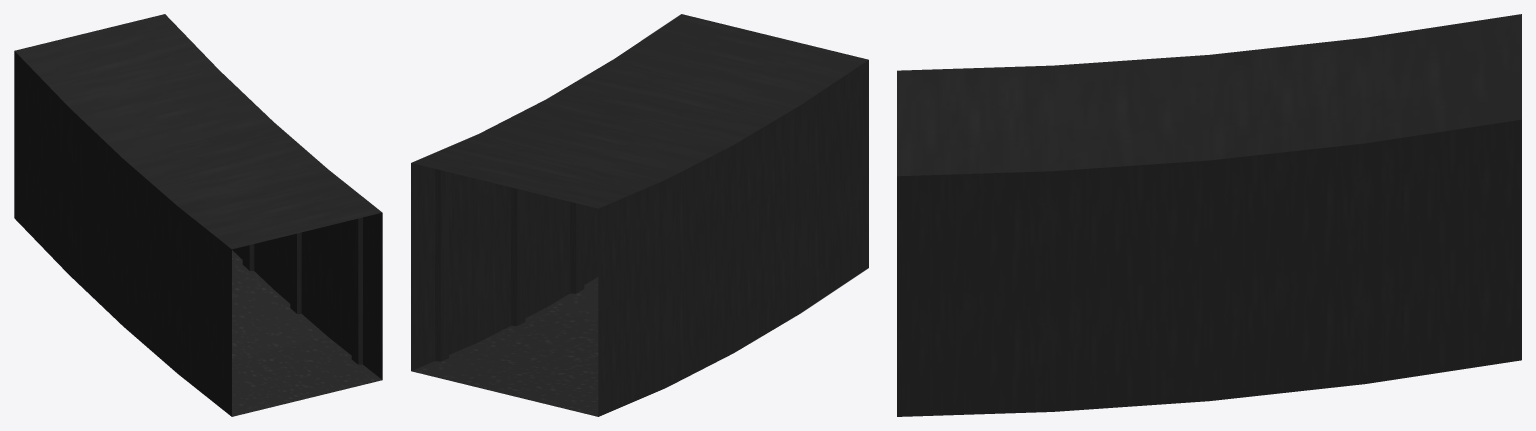
Rendered from SW_ENV_RailTunnel_Riser_A_Single_10m.fbx.
The picture shows the model from 3 angles, left to right: view 1: azimuth 30°, elevation 25°; view 2: azimuth 150°, elevation 25°; view 3: azimuth 270°, elevation 25°; orthographic projection. The views are drawn at different scales.
Visible parts, largest first — view 1: SW_ENV_RailTunnel_Riser_A_Single_10m; view 2: SW_ENV_RailTunnel_Riser_A_Single_10m; view 3: SW_ENV_RailTunnel_Riser_A_Single_10m.
Part boxes in pixels (x1,y1,x2,y2): SW_ENV_RailTunnel_Riser_A_Single_10m: (14, 14, 382, 416); SW_ENV_RailTunnel_Riser_A_Single_10m: (411, 14, 868, 416); SW_ENV_RailTunnel_Riser_A_Single_10m: (897, 14, 1521, 416).
Bounding box in the file's own units: 4 × 5.25 × 10.
